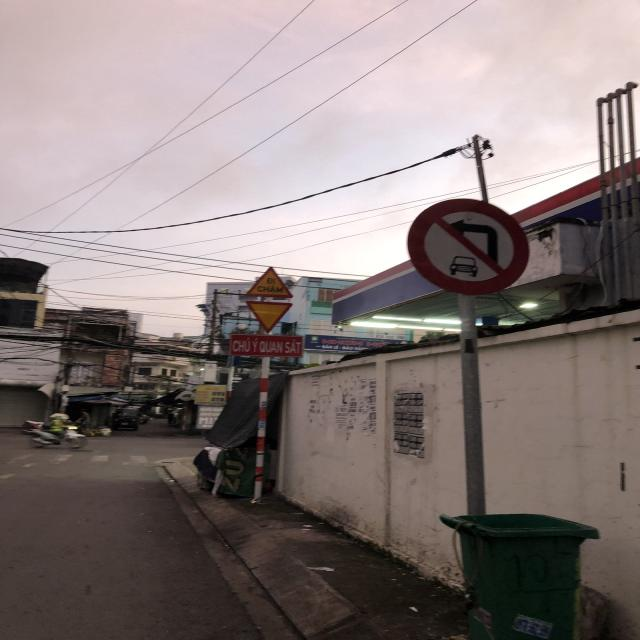Bien bao cam xe o to re trai: (399, 195, 533, 299)
Bien bao di cham: (241, 264, 299, 300)
Bien bao giao nhau voi duong uu tien: (240, 298, 299, 334)
